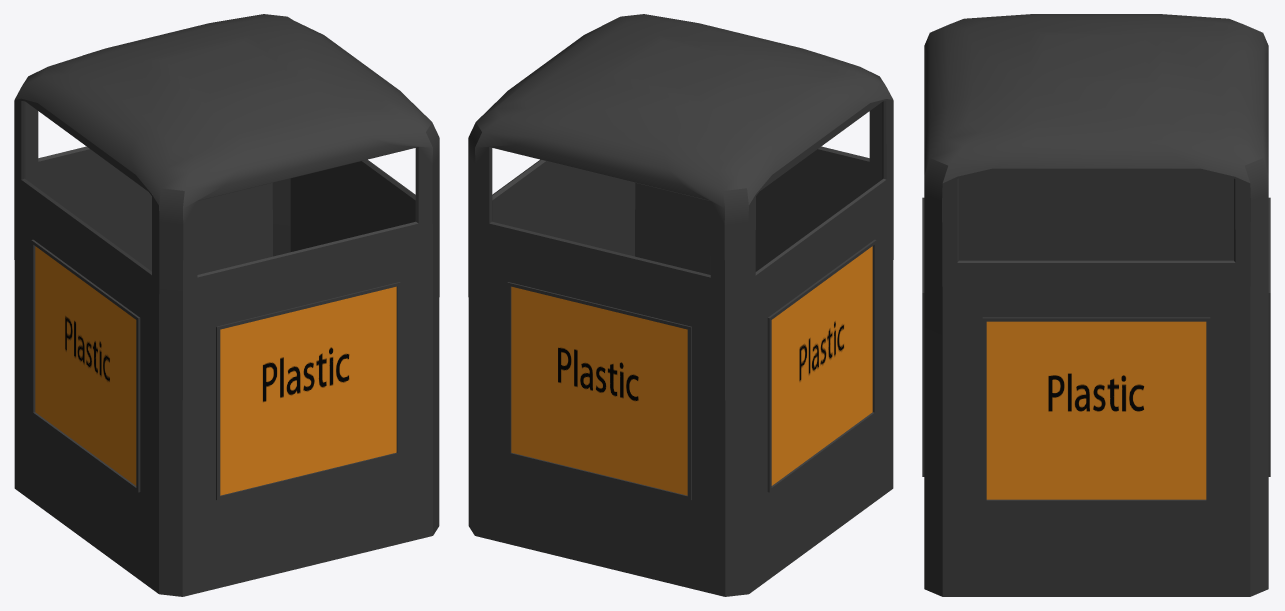
The model's file is Outdoor Bin plastic.fbx.
3 views of the same model, side by side, from view 1: azimuth 30°, elevation 25°; view 2: azimuth 150°, elevation 25°; view 3: azimuth 270°, elevation 25° (orthographic). The views are drawn at different scales.
Parts seen in each view (by area): view 1: pCube4; view 2: pCube4; view 3: pCube4.
Part boxes in pixels (left/top/right/bottom): pCube4: left=14, top=14, right=439, bottom=596; pCube4: left=468, top=14, right=893, bottom=596; pCube4: left=922, top=14, right=1270, bottom=596.
Bounding box in the file's own units: 1.01 × 1.5 × 1.01.
Materials: 2 (1 with a texture image).
